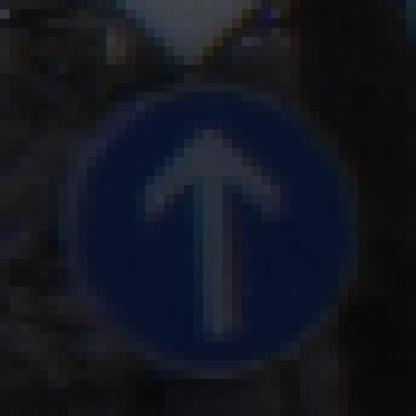AheadOnly: (59, 56, 369, 371)
